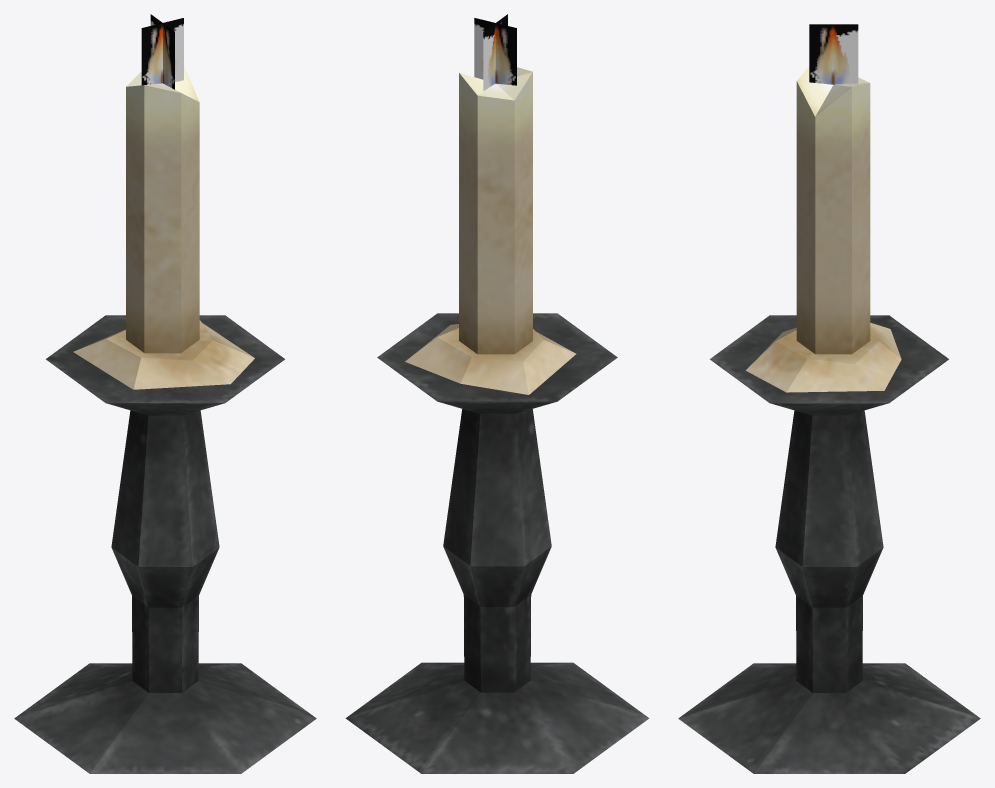
Rendered from Candleholder.fbx.
3 views of the same model, side by side, from view 1: azimuth 30°, elevation 25°; view 2: azimuth 150°, elevation 25°; view 3: azimuth 270°, elevation 25° (orthographic).
Visible parts, largest first — view 1: Candleholder; view 2: Candleholder; view 3: Candleholder.
Boxes of the visible parts, box(x1,y1,x2,y2) form: Candleholder: box(14, 14, 316, 773); Candleholder: box(345, 14, 649, 773); Candleholder: box(678, 24, 980, 773).
Size of the model in its own units: 15.05 by 43.95 by 17.38.
